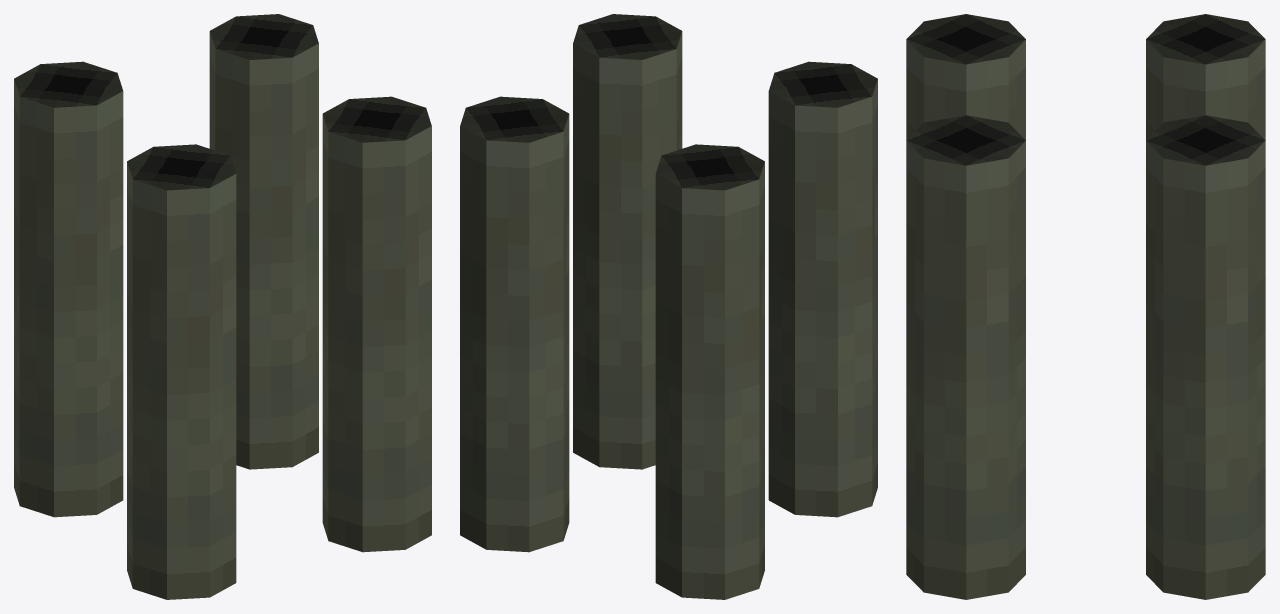
Rendered from pipe_quad_green_rusty.obj.
3 views of the same model, side by side, from view 1: azimuth 30°, elevation 25°; view 2: azimuth 150°, elevation 25°; view 3: azimuth 270°, elevation 25° (orthographic). The views are drawn at different scales.
Visible parts, largest first — view 1: Side, Top; view 2: Side, Top; view 3: Side, Top.
Part boxes in pixels (x1=…): Side: x1=14, y1=31, x2=431, y2=599; Top: x1=14, y1=14, x2=431, y2=190; Side: x1=460, y1=31, x2=877, y2=599; Top: x1=460, y1=14, x2=877, y2=190; Side: x1=906, y1=39, x2=1265, y2=599; Top: x1=906, y1=14, x2=1265, y2=165.
Bounding box in the file's own units: 0.75 × 1 × 0.75.
